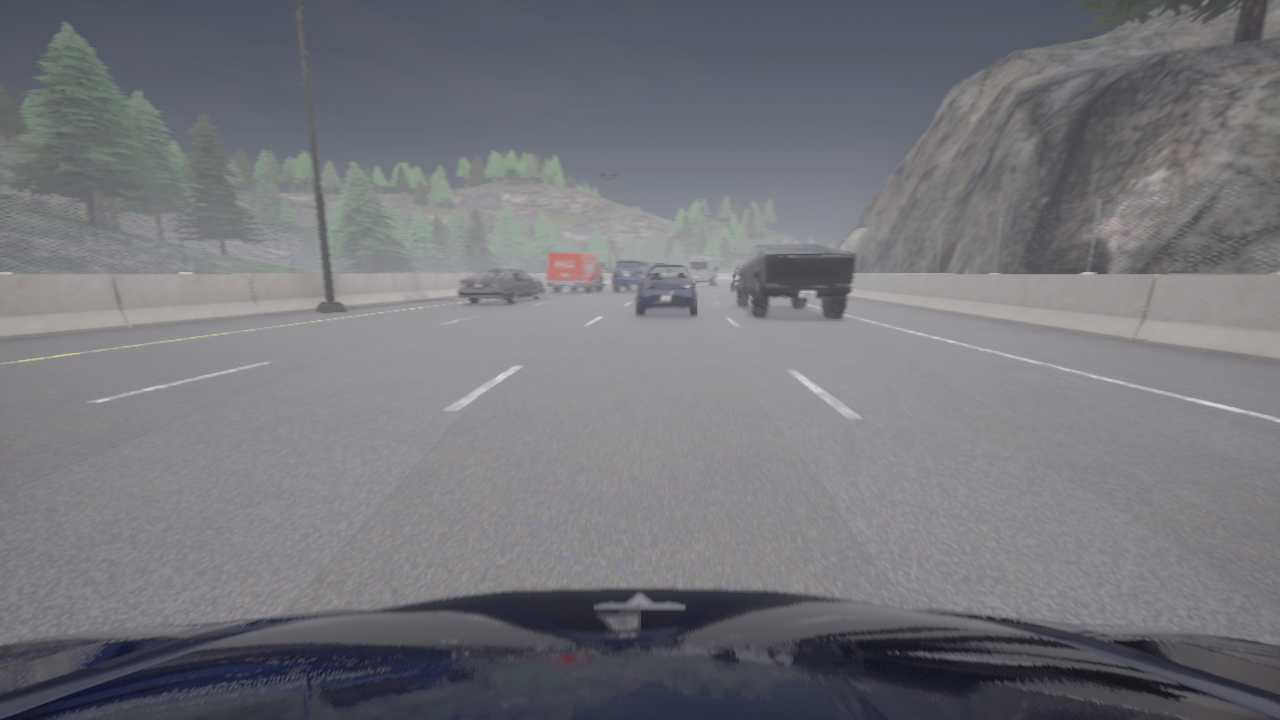cyclist: (0, 588, 1279, 719), (736, 244, 855, 318), (636, 264, 698, 316), (458, 268, 545, 303), (547, 253, 606, 292), (612, 260, 650, 291), (688, 256, 717, 285), (731, 263, 743, 291)
